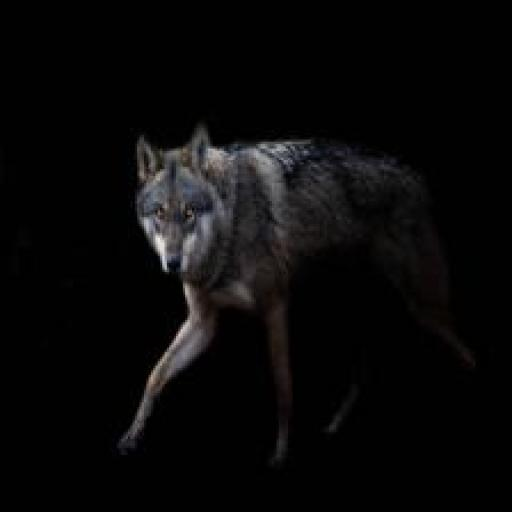wolf: (96, 69, 512, 481)
